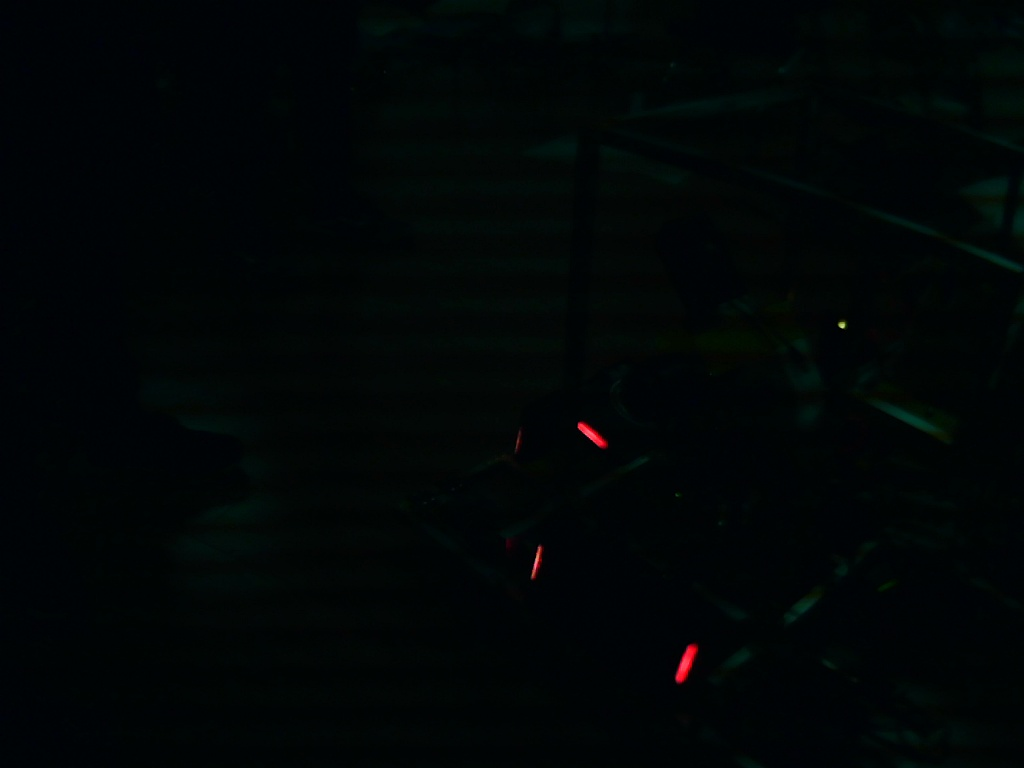lamp: (673, 639, 700, 687), (529, 540, 544, 584)
